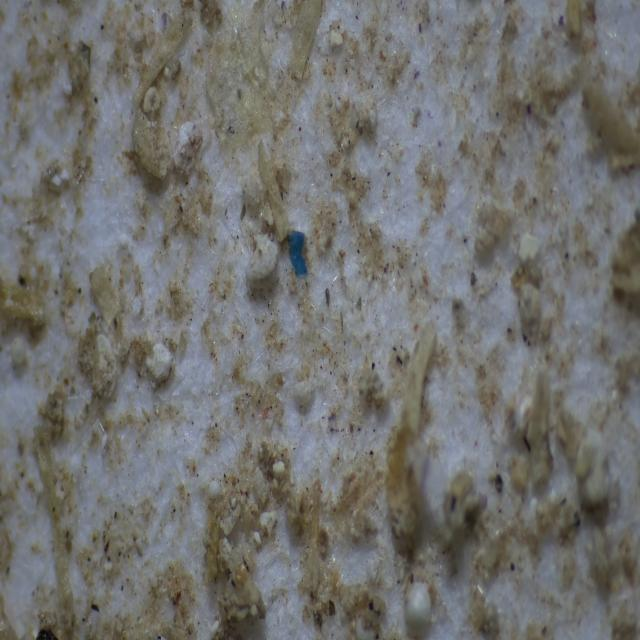microplastic: (286, 233, 308, 281)
